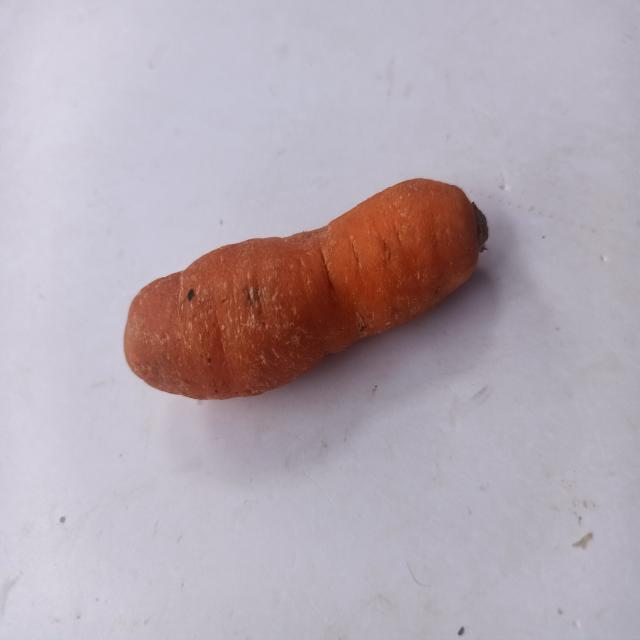Carrot: (100, 161, 496, 413)
